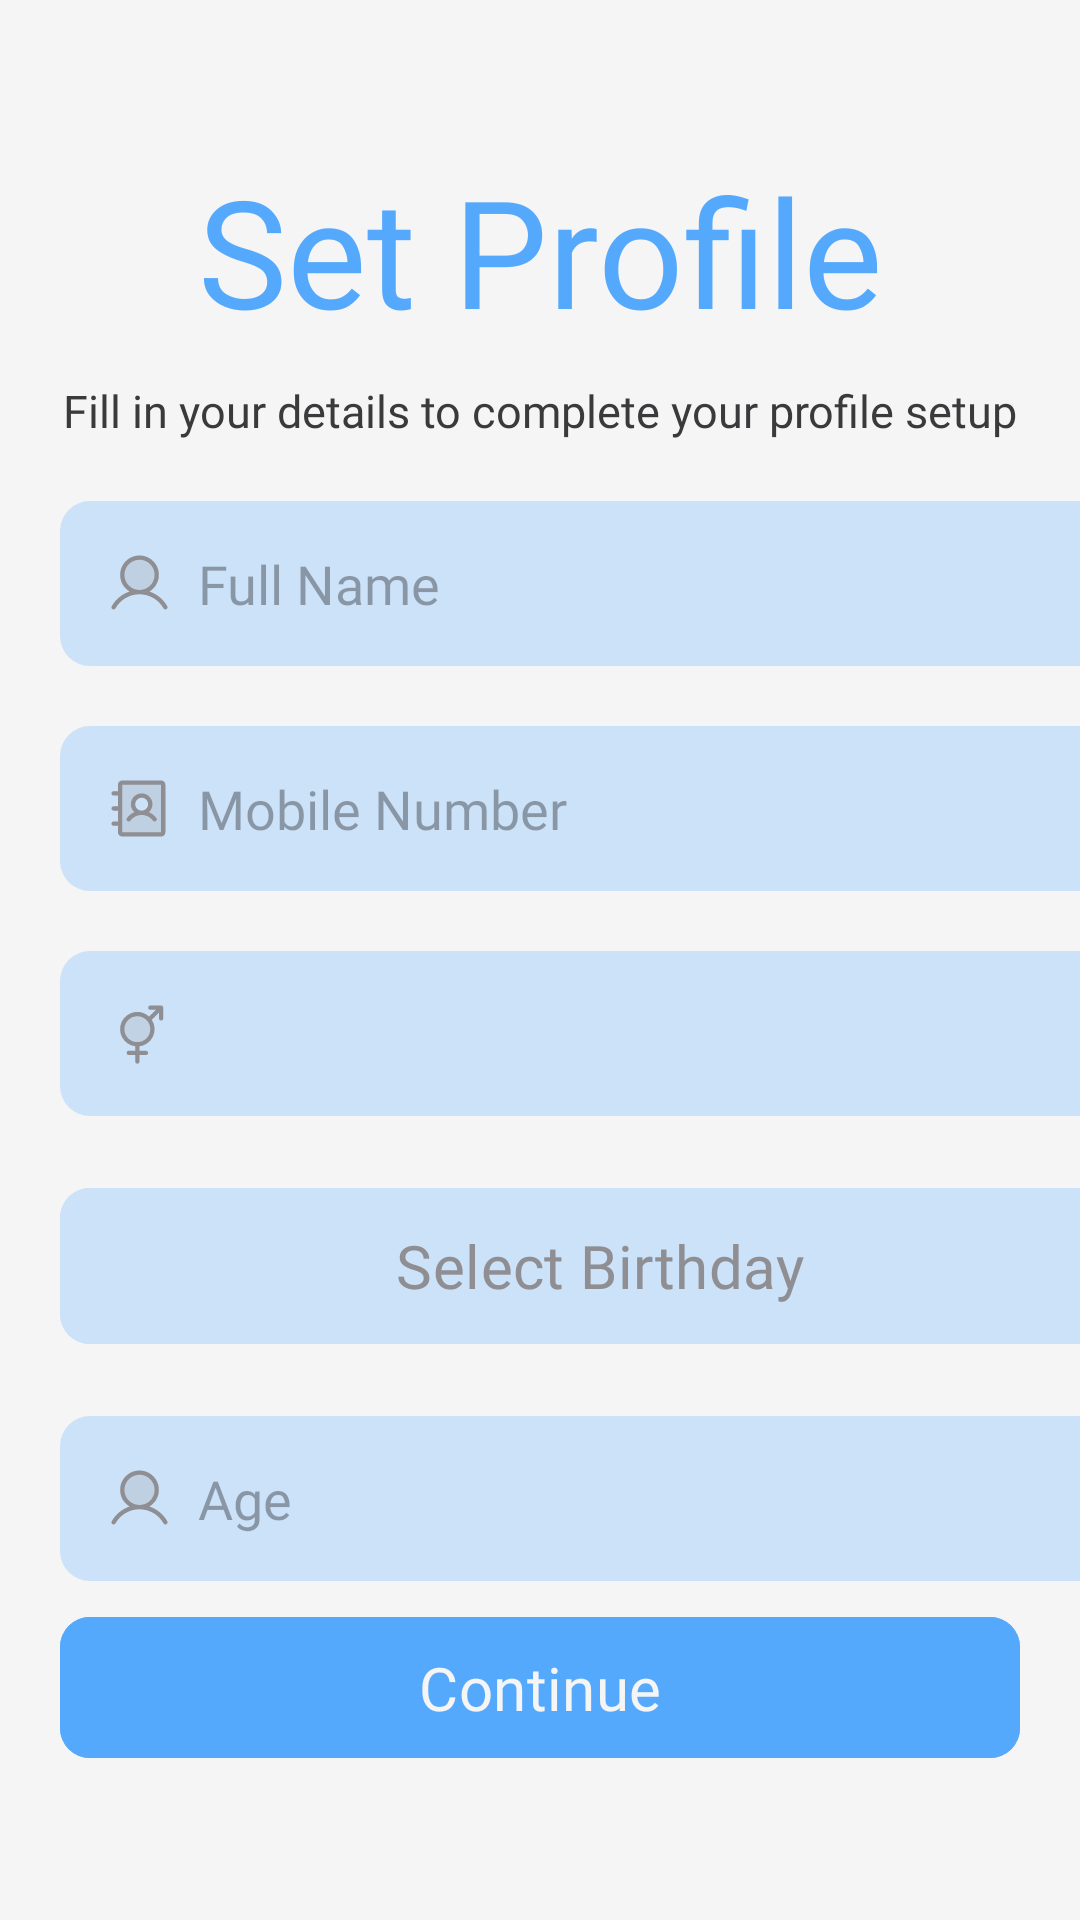

Where to tap for icons on this 1080px x 1920px app screen, as point (x, y):
Gender Icon: point (142, 1034)
